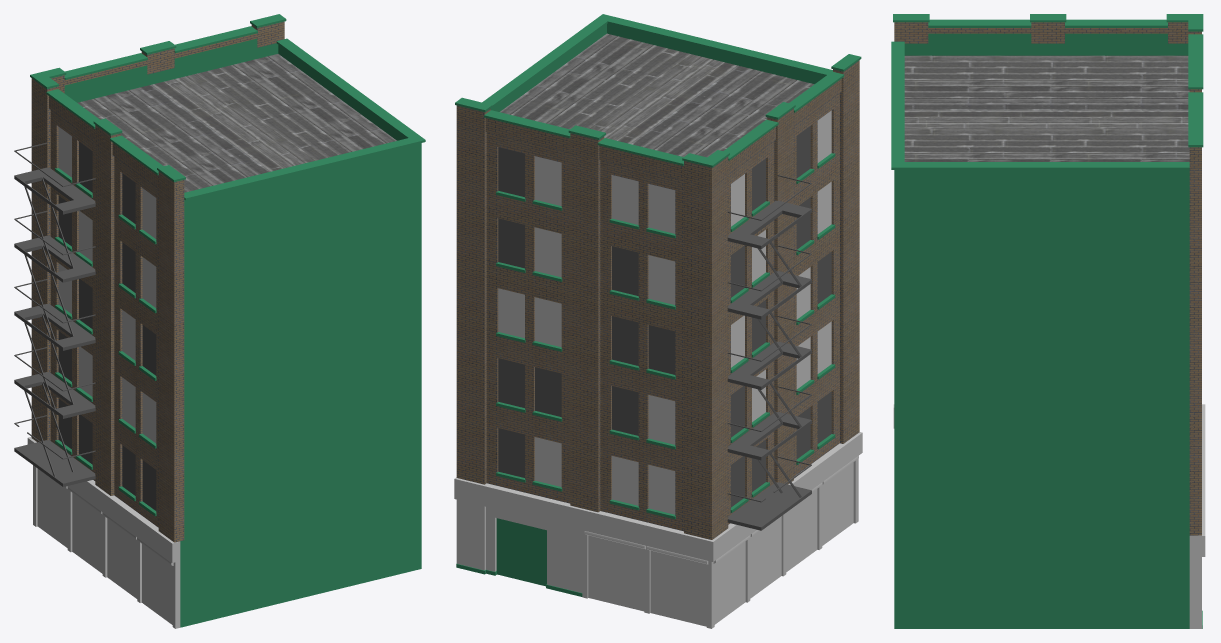
Rendered from mcp_building_30_LOD_1.FBX.
The picture shows the model from 3 angles, left to right: view 1: azimuth 30°, elevation 25°; view 2: azimuth 150°, elevation 25°; view 3: azimuth 270°, elevation 25°; orthographic projection. The views are drawn at different scales.
Visible parts, largest first — view 1: mcp_building_30_walls, mcp_building_30, mcp_building_30_props_02, mcp_building_30_concrete; view 2: mcp_building_30_walls, mcp_building_30, mcp_building_30_concrete, mcp_building_30_props_02, mcp_building_30_doors; view 3: mcp_building_30_walls, mcp_building_30_concrete, mcp_building_30.
Part boxes in pixels (box(x1,y1,x2,y2)): mcp_building_30_walls: box(31, 21, 421, 627); mcp_building_30: box(27, 127, 180, 628); mcp_building_30_props_02: box(14, 142, 95, 486); mcp_building_30_concrete: box(30, 14, 425, 516); mcp_building_30_walls: box(456, 23, 859, 592); mcp_building_30: box(454, 110, 862, 628); mcp_building_30_concrete: box(455, 14, 861, 596); mcp_building_30_props_02: box(727, 175, 811, 530); mcp_building_30_doors: box(496, 518, 546, 586); mcp_building_30_walls: box(894, 22, 1201, 628); mcp_building_30_concrete: box(891, 14, 1203, 628); mcp_building_30: box(893, 404, 1205, 556).
Size of the model in its own units: 1544 by 2349 by 1386.
